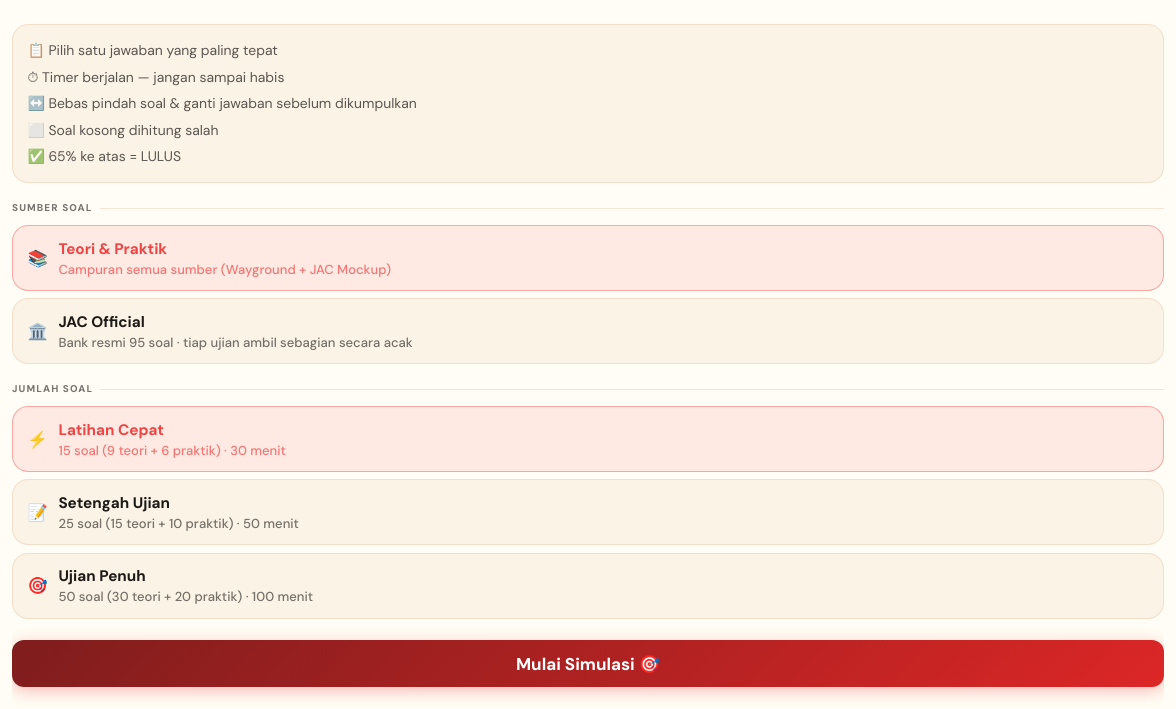
Test case: simulasi keyboard (item 95) › arrows move between questions, and stop at the ends
(page scrolled)
Click the button "Mulai Simulasi 🎯" at (588, 664), box x1=12 y1=640 x2=1164 y2=687
(page scrolled)
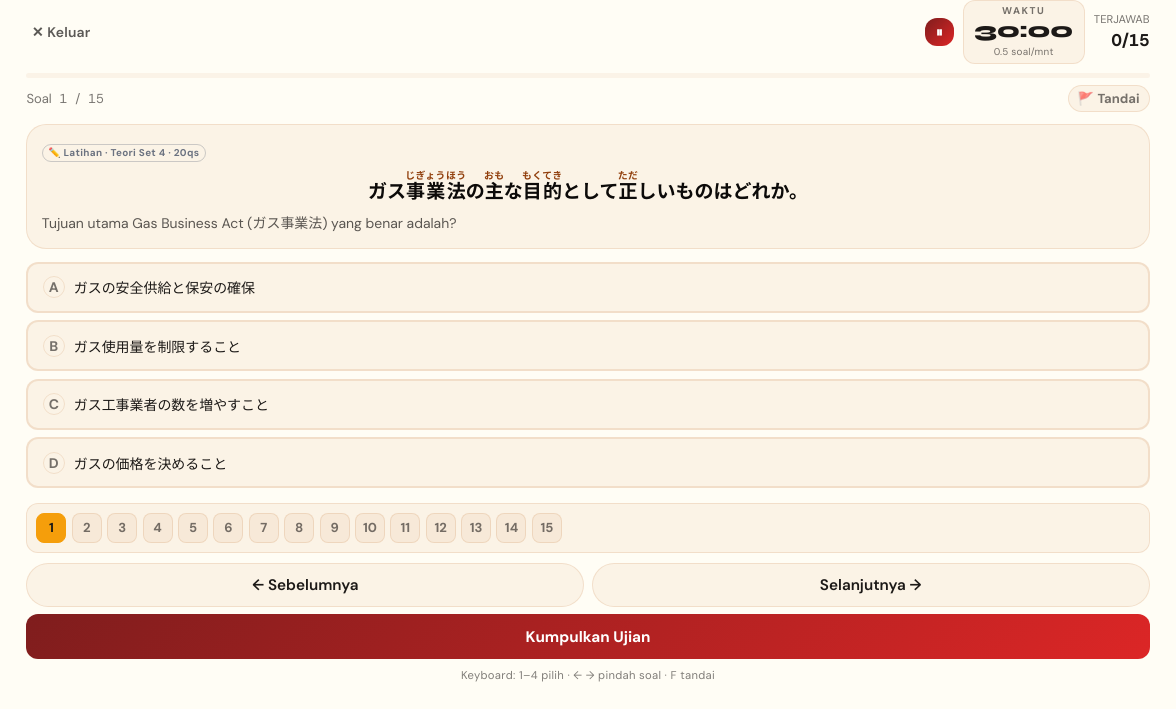
Now the text "Soal 1 / 15" is shown, box x1=26 y1=89 x2=104 y2=108
Press ArrowLeft
Now the text "Soal 1 / 15" is shown, box x1=26 y1=89 x2=104 y2=108
Press ArrowRight
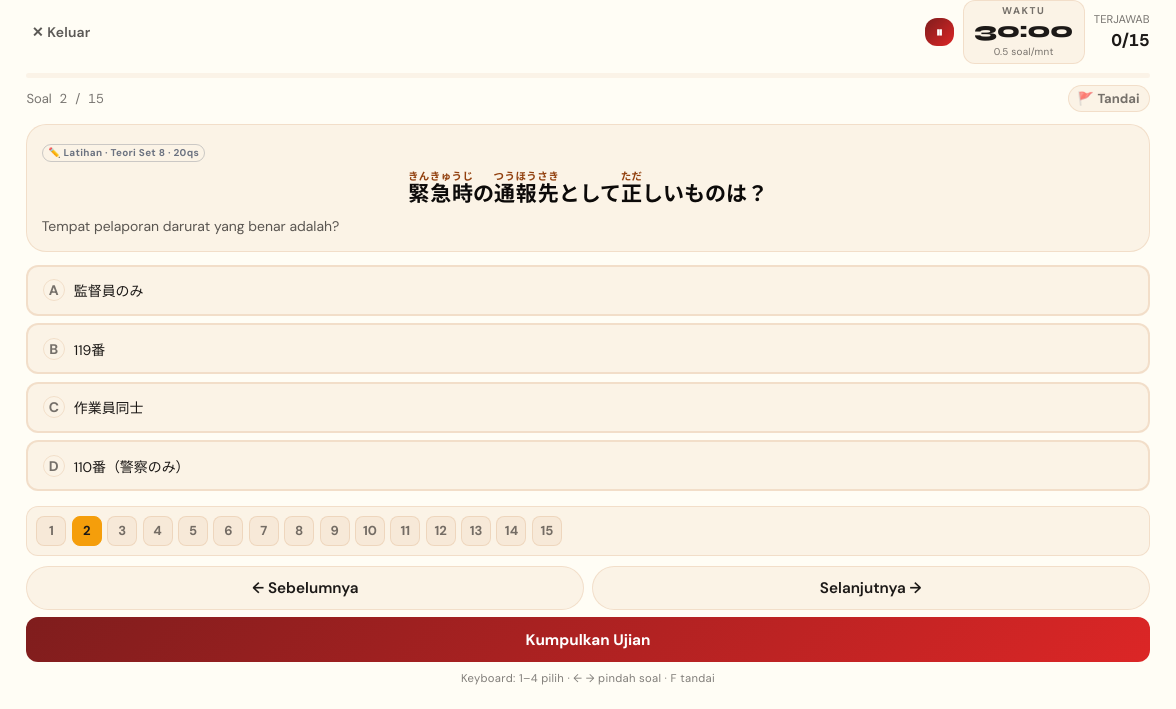
Now the text "Soal 2 / 15" is shown, box x1=26 y1=89 x2=104 y2=108
Press ArrowLeft
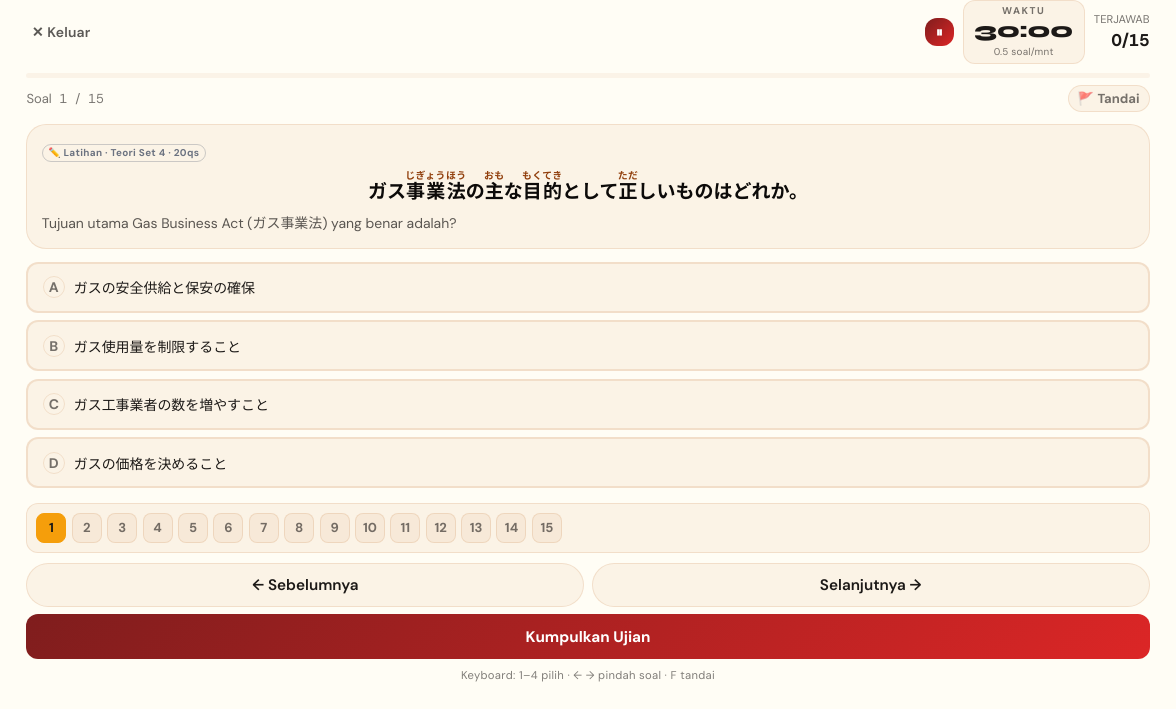
Now the text "Soal 1 / 15" is shown, box x1=26 y1=89 x2=104 y2=108
